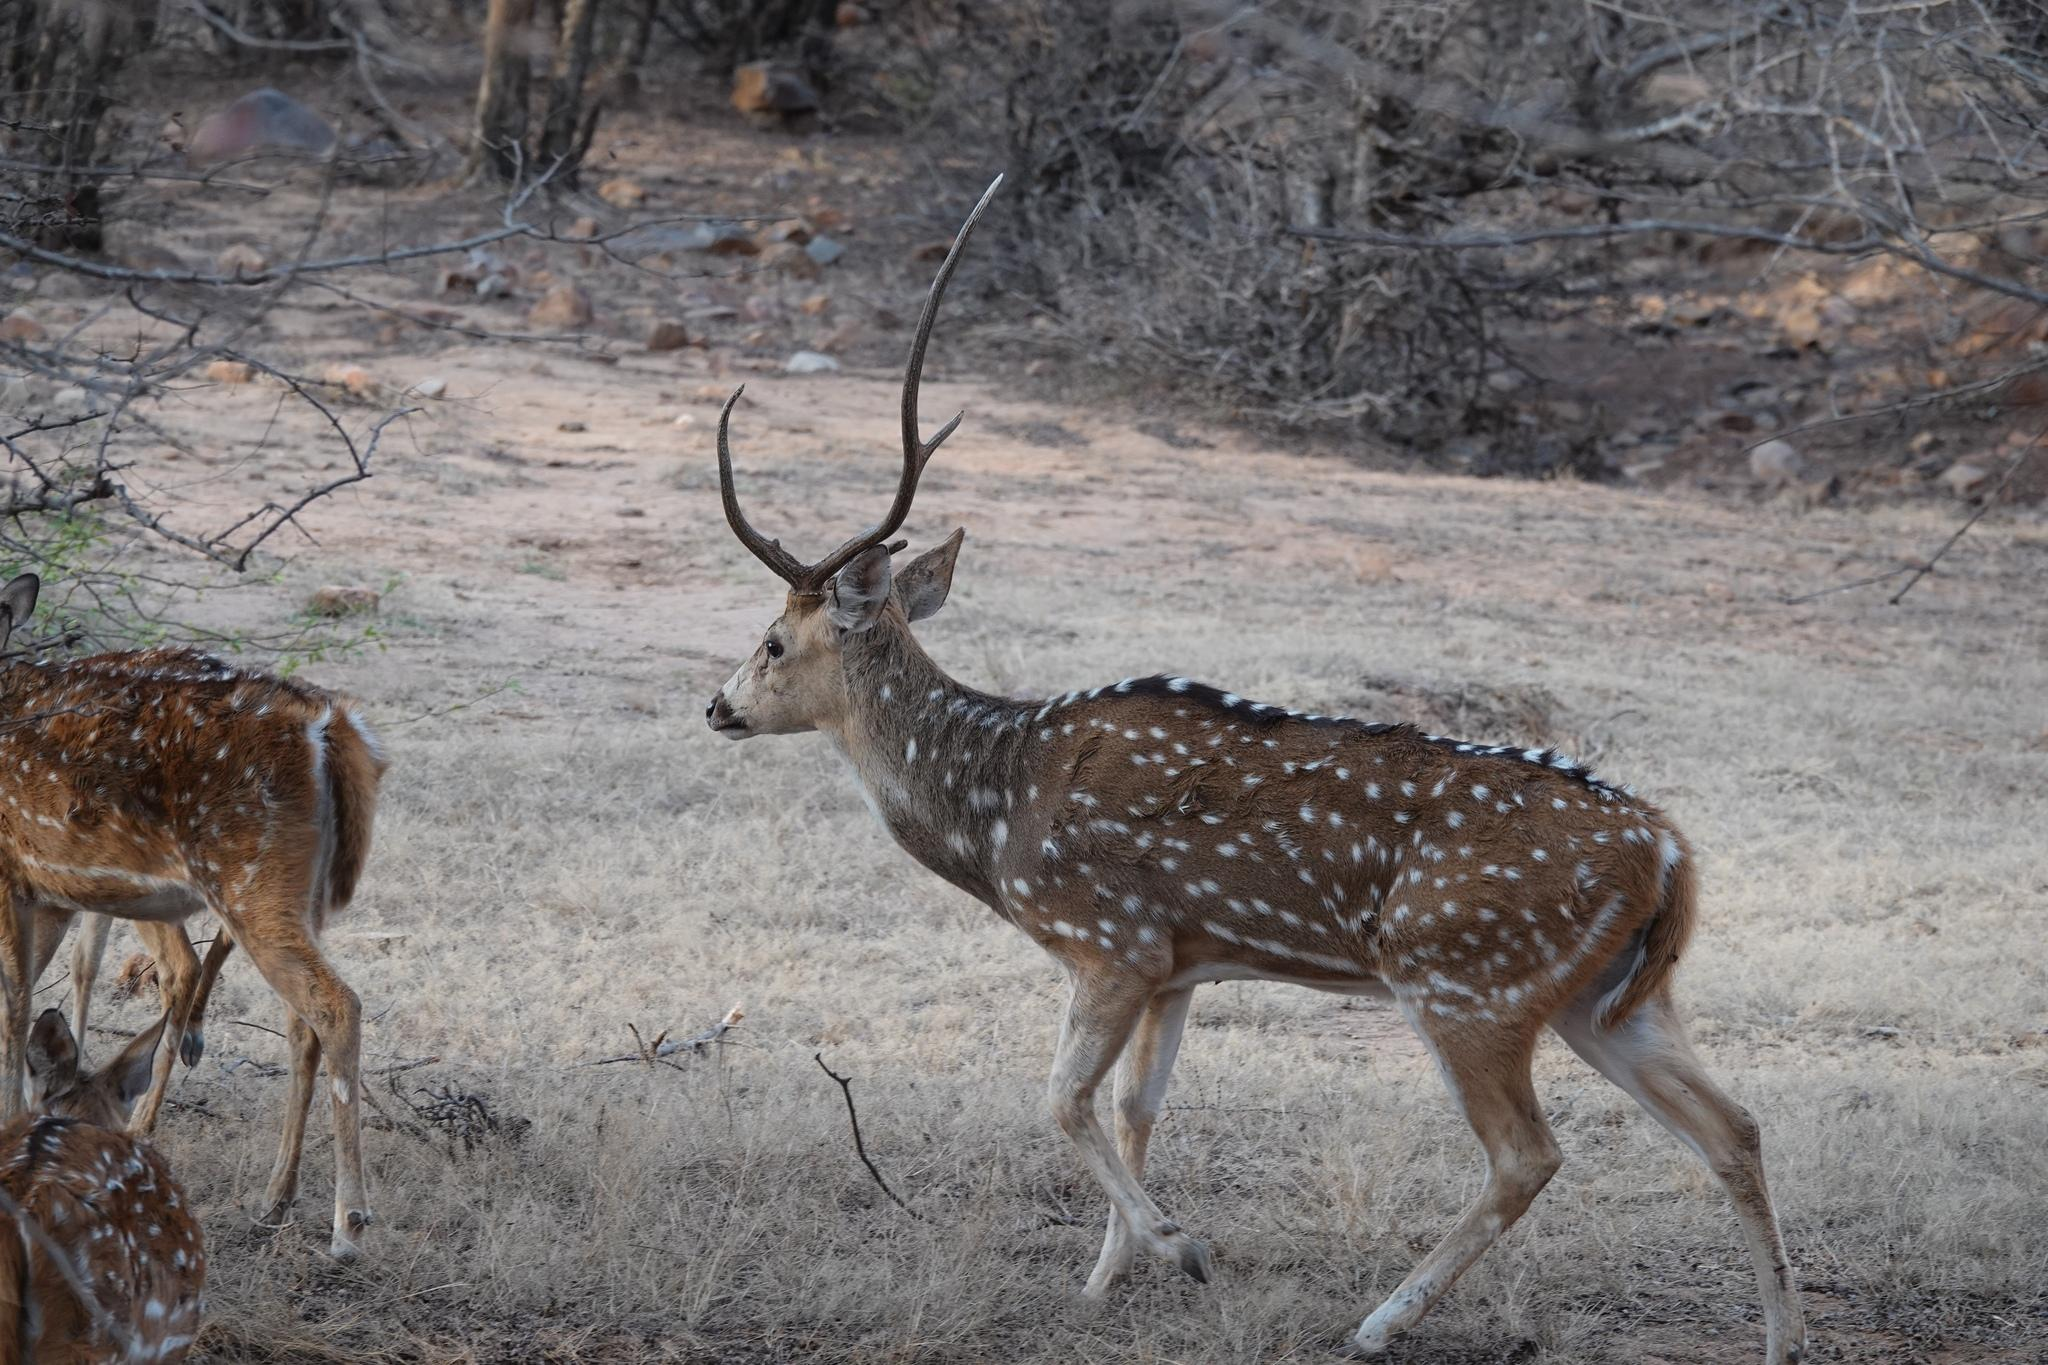Deer: (707, 256, 1803, 1363), (0, 647, 384, 1255), (0, 1009, 206, 1363)
